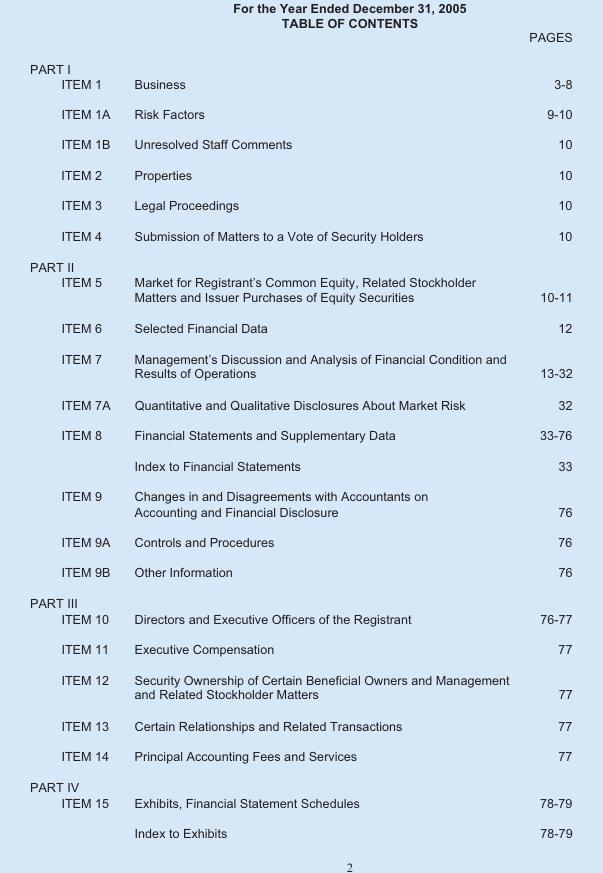table: (28, 28, 571, 841)
table column: (121, 28, 518, 841), (28, 28, 121, 841), (518, 28, 571, 841)
table column header: (28, 28, 571, 52)
table projected row header: (28, 52, 571, 76), (28, 250, 571, 274), (28, 587, 571, 610), (28, 771, 571, 794)
table row: (28, 480, 571, 526), (28, 343, 571, 388), (28, 664, 571, 709), (28, 274, 571, 312), (28, 98, 571, 129), (28, 189, 571, 220), (28, 312, 571, 343), (28, 388, 571, 419), (28, 419, 571, 450), (28, 556, 571, 587), (28, 633, 571, 664), (28, 709, 571, 740), (28, 740, 571, 771), (28, 129, 571, 159), (28, 159, 571, 189), (28, 220, 571, 250), (28, 450, 571, 480), (28, 526, 571, 556), (28, 28, 571, 52), (28, 52, 571, 76), (28, 250, 571, 274), (28, 817, 571, 841), (28, 587, 571, 610), (28, 610, 571, 633), (28, 771, 571, 794), (28, 794, 571, 817), (28, 76, 571, 98)
table spanning cell: (28, 419, 121, 480), (28, 794, 121, 841)
